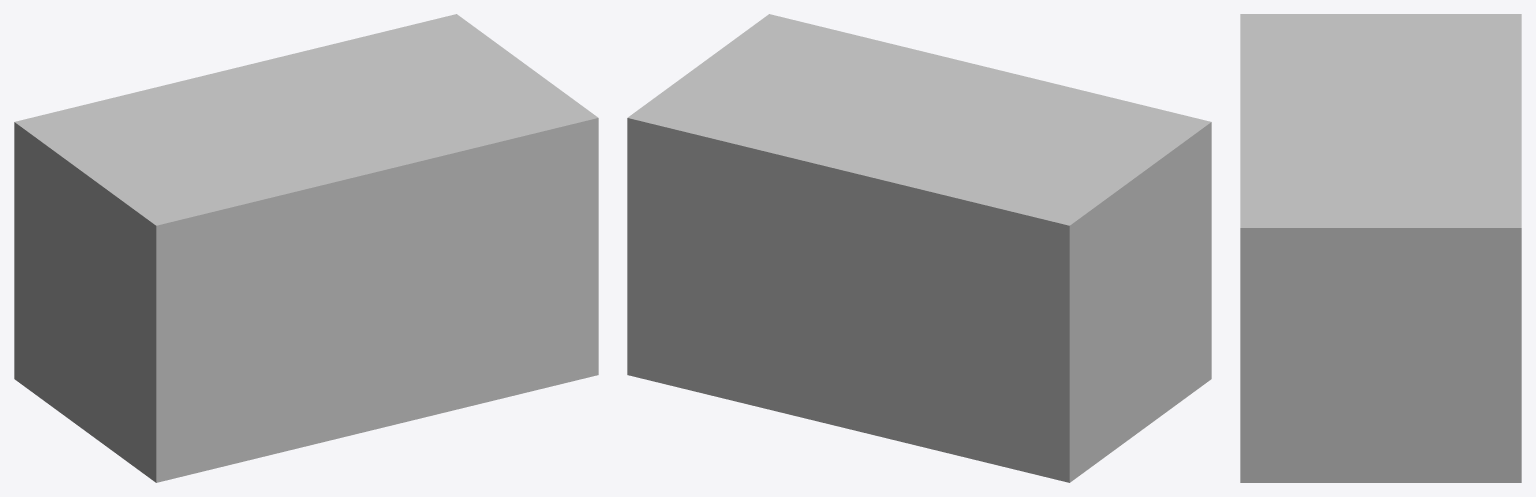
The model's file is Concrete_Block_05.fbx.
The picture shows the model from 3 angles, left to right: view 1: azimuth 30°, elevation 25°; view 2: azimuth 150°, elevation 25°; view 3: azimuth 270°, elevation 25°; orthographic projection.
Parts seen in each view (by area): view 1: Concrete_Block_05; view 2: Concrete_Block_05; view 3: Concrete_Block_05.
Part boxes in pixels (box(x1,y1,x2,y2)): Concrete_Block_05: box(14, 14, 598, 482); Concrete_Block_05: box(627, 14, 1211, 482); Concrete_Block_05: box(1240, 14, 1521, 482).
Bounding box in the file's own units: 43.2 × 24 × 24.
